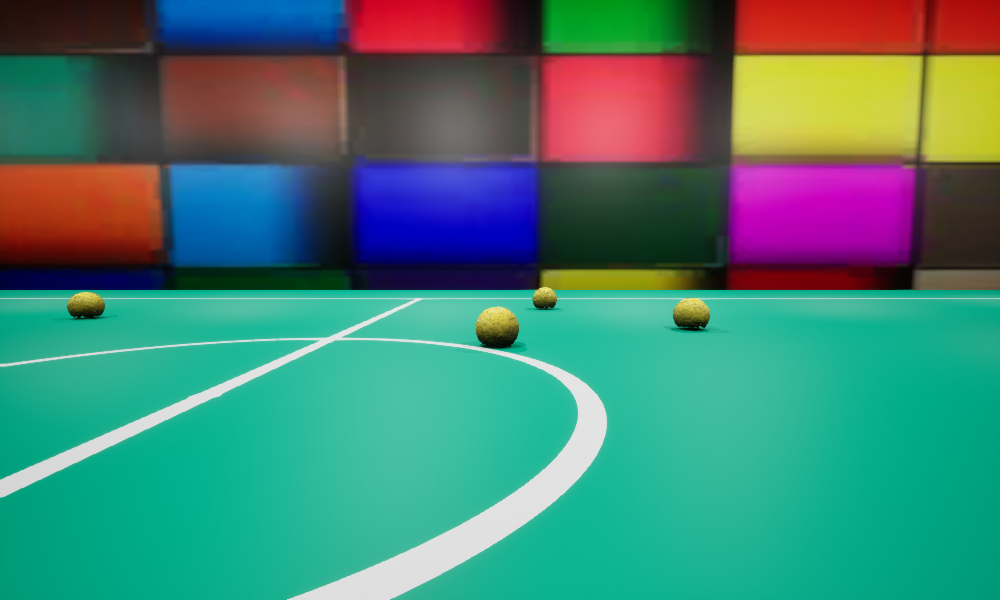b: (476, 306, 518, 346), (673, 298, 709, 329), (67, 292, 104, 318), (532, 287, 556, 309)
